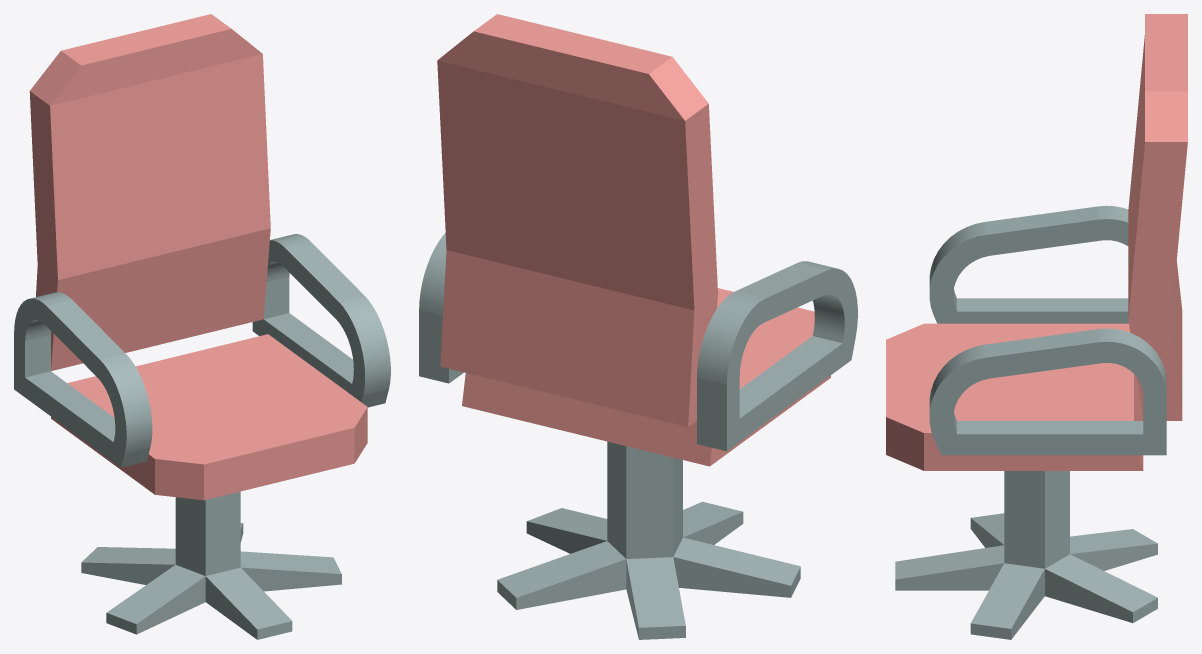
Rendered from chairDesk.glb.
The picture shows the model from 3 angles, left to right: view 1: azimuth 30°, elevation 25°; view 2: azimuth 150°, elevation 25°; view 3: azimuth 270°, elevation 25°; orthographic projection. The views are drawn at different scales.
Parts seen in each view (by area): view 1: chair, chairDesk(Clone); view 2: chair, chairDesk(Clone); view 3: chairDesk(Clone), chair.
Part boxes in pixels (box(x1,y1,x2,y2)): chair: box(29, 14, 367, 500); chairDesk(Clone): box(14, 234, 390, 639); chair: box(437, 14, 830, 466); chairDesk(Clone): box(419, 233, 857, 639); chairDesk(Clone): box(895, 205, 1166, 639); chair: box(886, 14, 1187, 470).
Size of the model in its own units: 0.3349 by 0.6076 by 0.3143.
